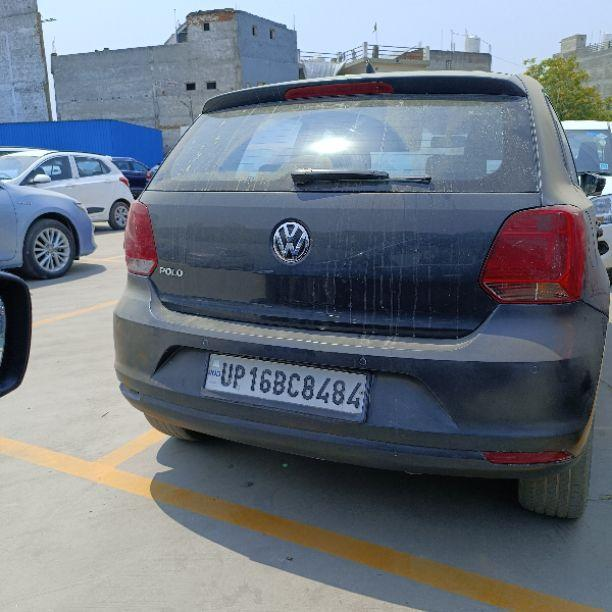license_plate: (201, 351, 372, 423)
